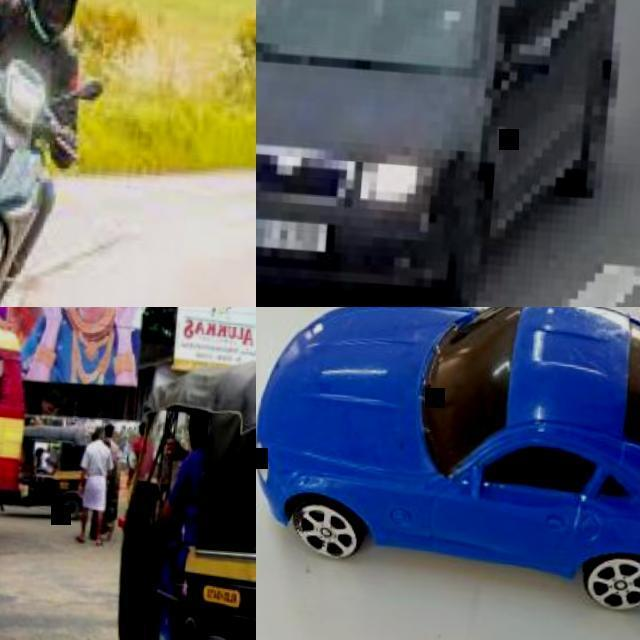car: (257, 0, 620, 289), (13, 422, 121, 523), (156, 548, 253, 638)
